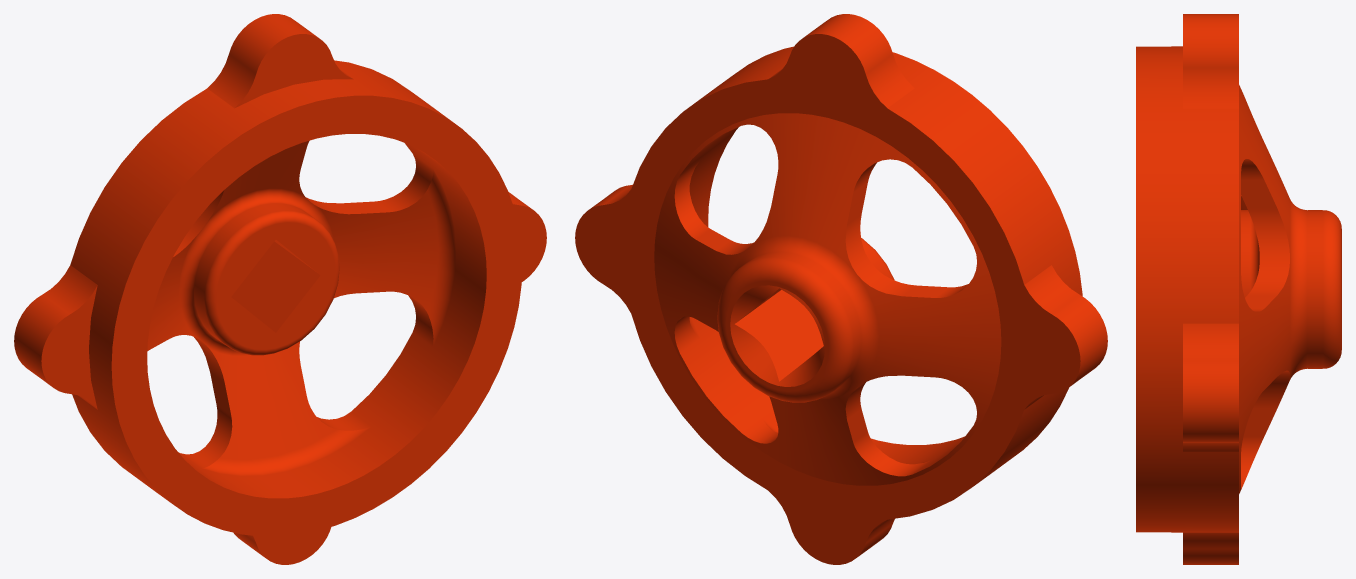
Rendered from new_handle.fbx.
The picture shows the model from 3 angles, left to right: view 1: azimuth 30°, elevation 25°; view 2: azimuth 150°, elevation 25°; view 3: azimuth 270°, elevation 25°; orthographic projection. The views are drawn at different scales.
Visible parts, largest first — view 1: Handle; view 2: Handle; view 3: Handle.
Part boxes in pixels (x1,y1,x2,y2): Handle: [14, 14, 546, 564]; Handle: [575, 14, 1107, 564]; Handle: [1136, 14, 1341, 564].
Size of the model in its own units: 7.62 by 7.62 by 2.62.
